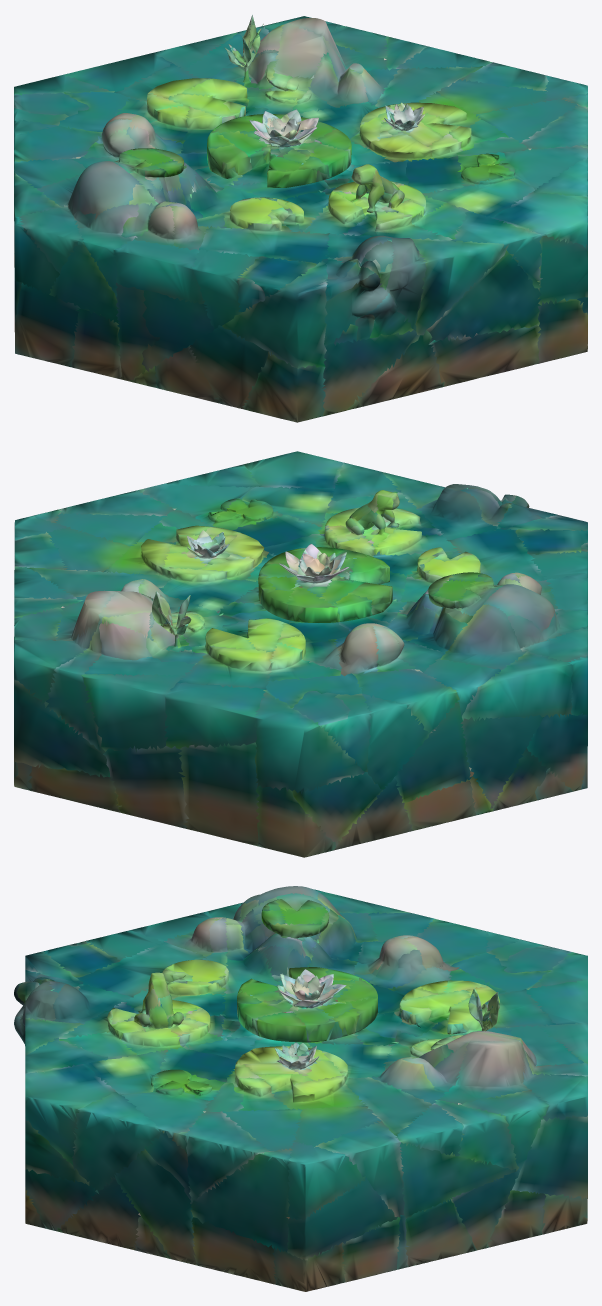
The model's file is watertile_lv2.glb.
3 views of the same model, one above another, from view 1: azimuth 30°, elevation 25°; view 2: azimuth 150°, elevation 25°; view 3: azimuth 270°, elevation 25° (orthographic).
Size of the model in its own units: 1.9 by 0.5916 by 1.66.
1 material, 1 textured.
